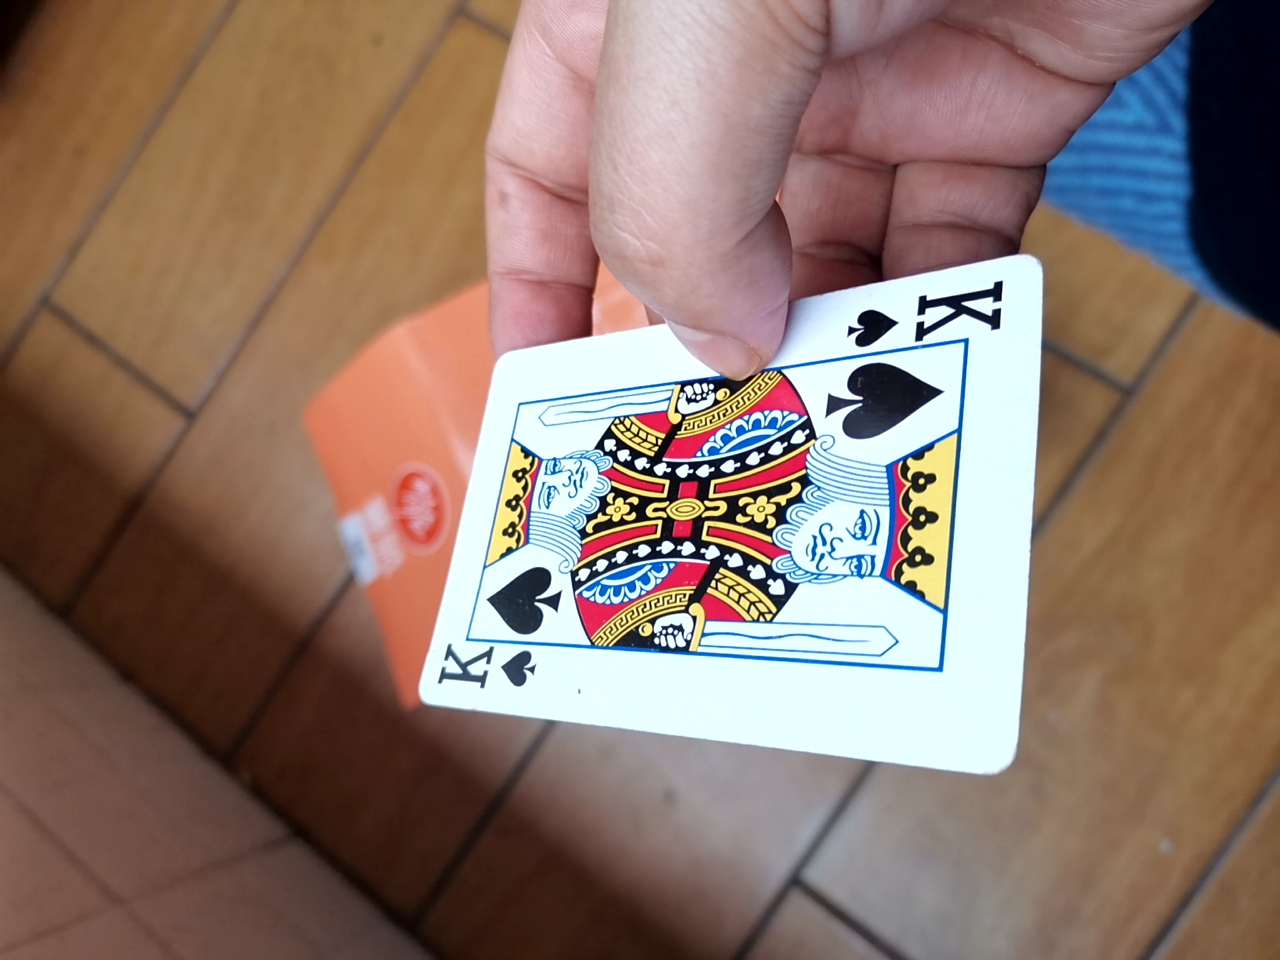ht k: (388, 266, 1037, 774)
